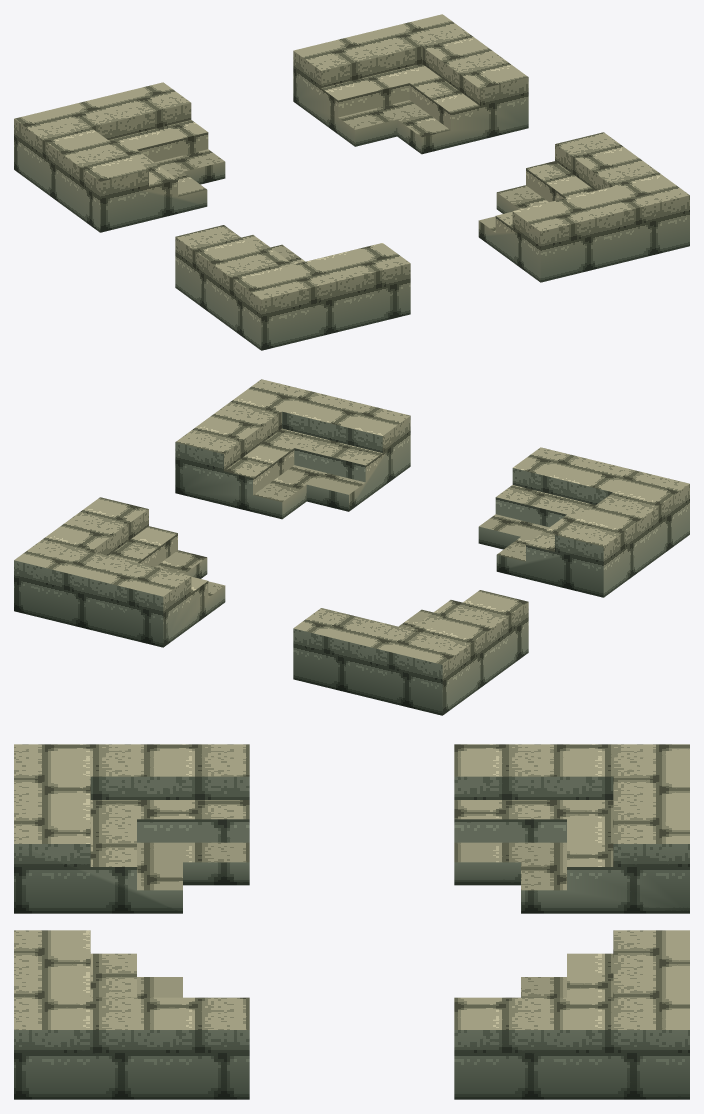
The model's file is ruin.court__cross.glb.
3 views of the same model, one above another, from view 1: azimuth 30°, elevation 25°; view 2: azimuth 150°, elevation 25°; view 3: azimuth 270°, elevation 25° (orthographic). The views are drawn at different scales.
Parts seen in each view (by area): view 1: kit_terraces_1, kit_terraces_2, kit_terraces_0, kit_terraces_3; view 2: kit_terraces_0, kit_terraces_3, kit_terraces_1, kit_terraces_2; view 3: kit_terraces_2, kit_terraces_3, kit_terraces_0, kit_terraces_1.
Boxes of the visible parts, left/top/right/bottom form: kit_terraces_1: left=293, top=14, right=528, bottom=154; kit_terraces_2: left=14, top=82, right=225, bottom=232; kit_terraces_0: left=478, top=132, right=689, bottom=282; kit_terraces_3: left=175, top=225, right=410, bottom=350; kit_terraces_0: left=175, top=379, right=410, bottom=519; kit_terraces_3: left=478, top=447, right=689, bottom=597; kit_terraces_1: left=14, top=497, right=225, bottom=647; kit_terraces_2: left=293, top=590, right=528, bottom=715; kit_terraces_2: left=454, top=744, right=689, bottom=913; kit_terraces_3: left=14, top=744, right=249, bottom=913; kit_terraces_0: left=14, top=930, right=249, bottom=1099; kit_terraces_1: left=454, top=930, right=689, bottom=1099.
Bounding box in the file's own units: 13.2 × 1.5 × 13.2.
Materials: 1 (1 with a texture image).
